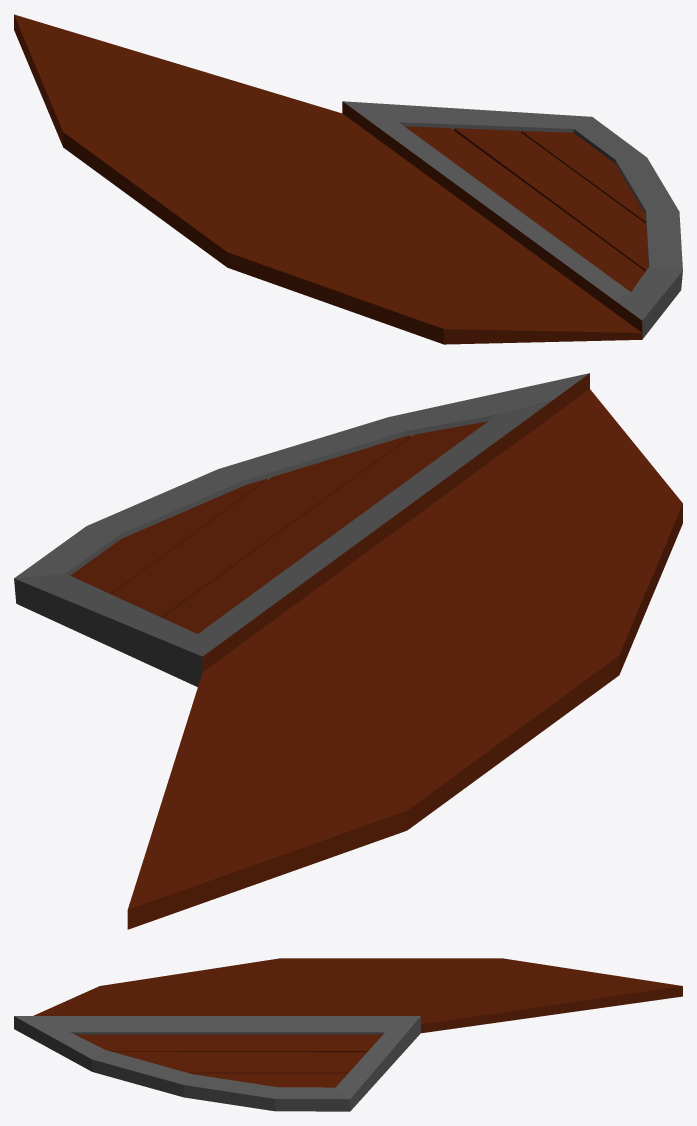
The model's file is shield.glb.
3 views of the same model, one above another, from view 1: azimuth 30°, elevation 25°; view 2: azimuth 150°, elevation 25°; view 3: azimuth 270°, elevation 25° (orthographic). The views are drawn at different scales.
Parts seen in each view (by area): view 1: Cylinder; view 2: Cylinder; view 3: Cylinder.
Boxes of the visible parts, x1,y1,x2,y2 form: Cylinder: (14, 14, 682, 344); Cylinder: (14, 373, 682, 929); Cylinder: (14, 958, 682, 1111).
Size of the model in its own units: 2.93 by 0.302 by 6.
